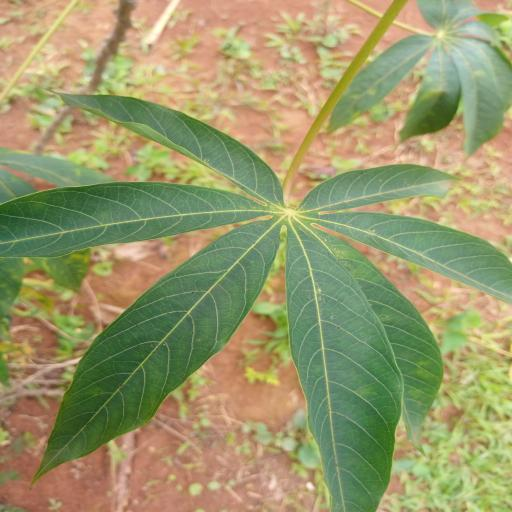Cassava_Mosaic: (8, 86, 512, 503)
